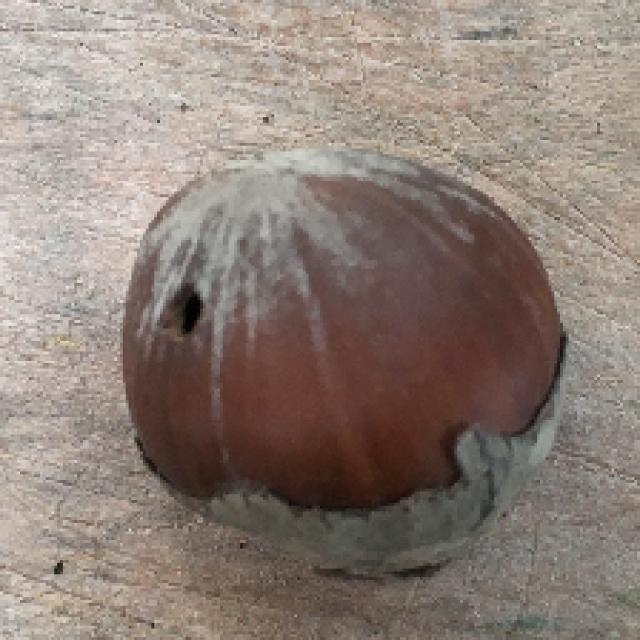damagedHazelnut: (115, 137, 588, 589)
